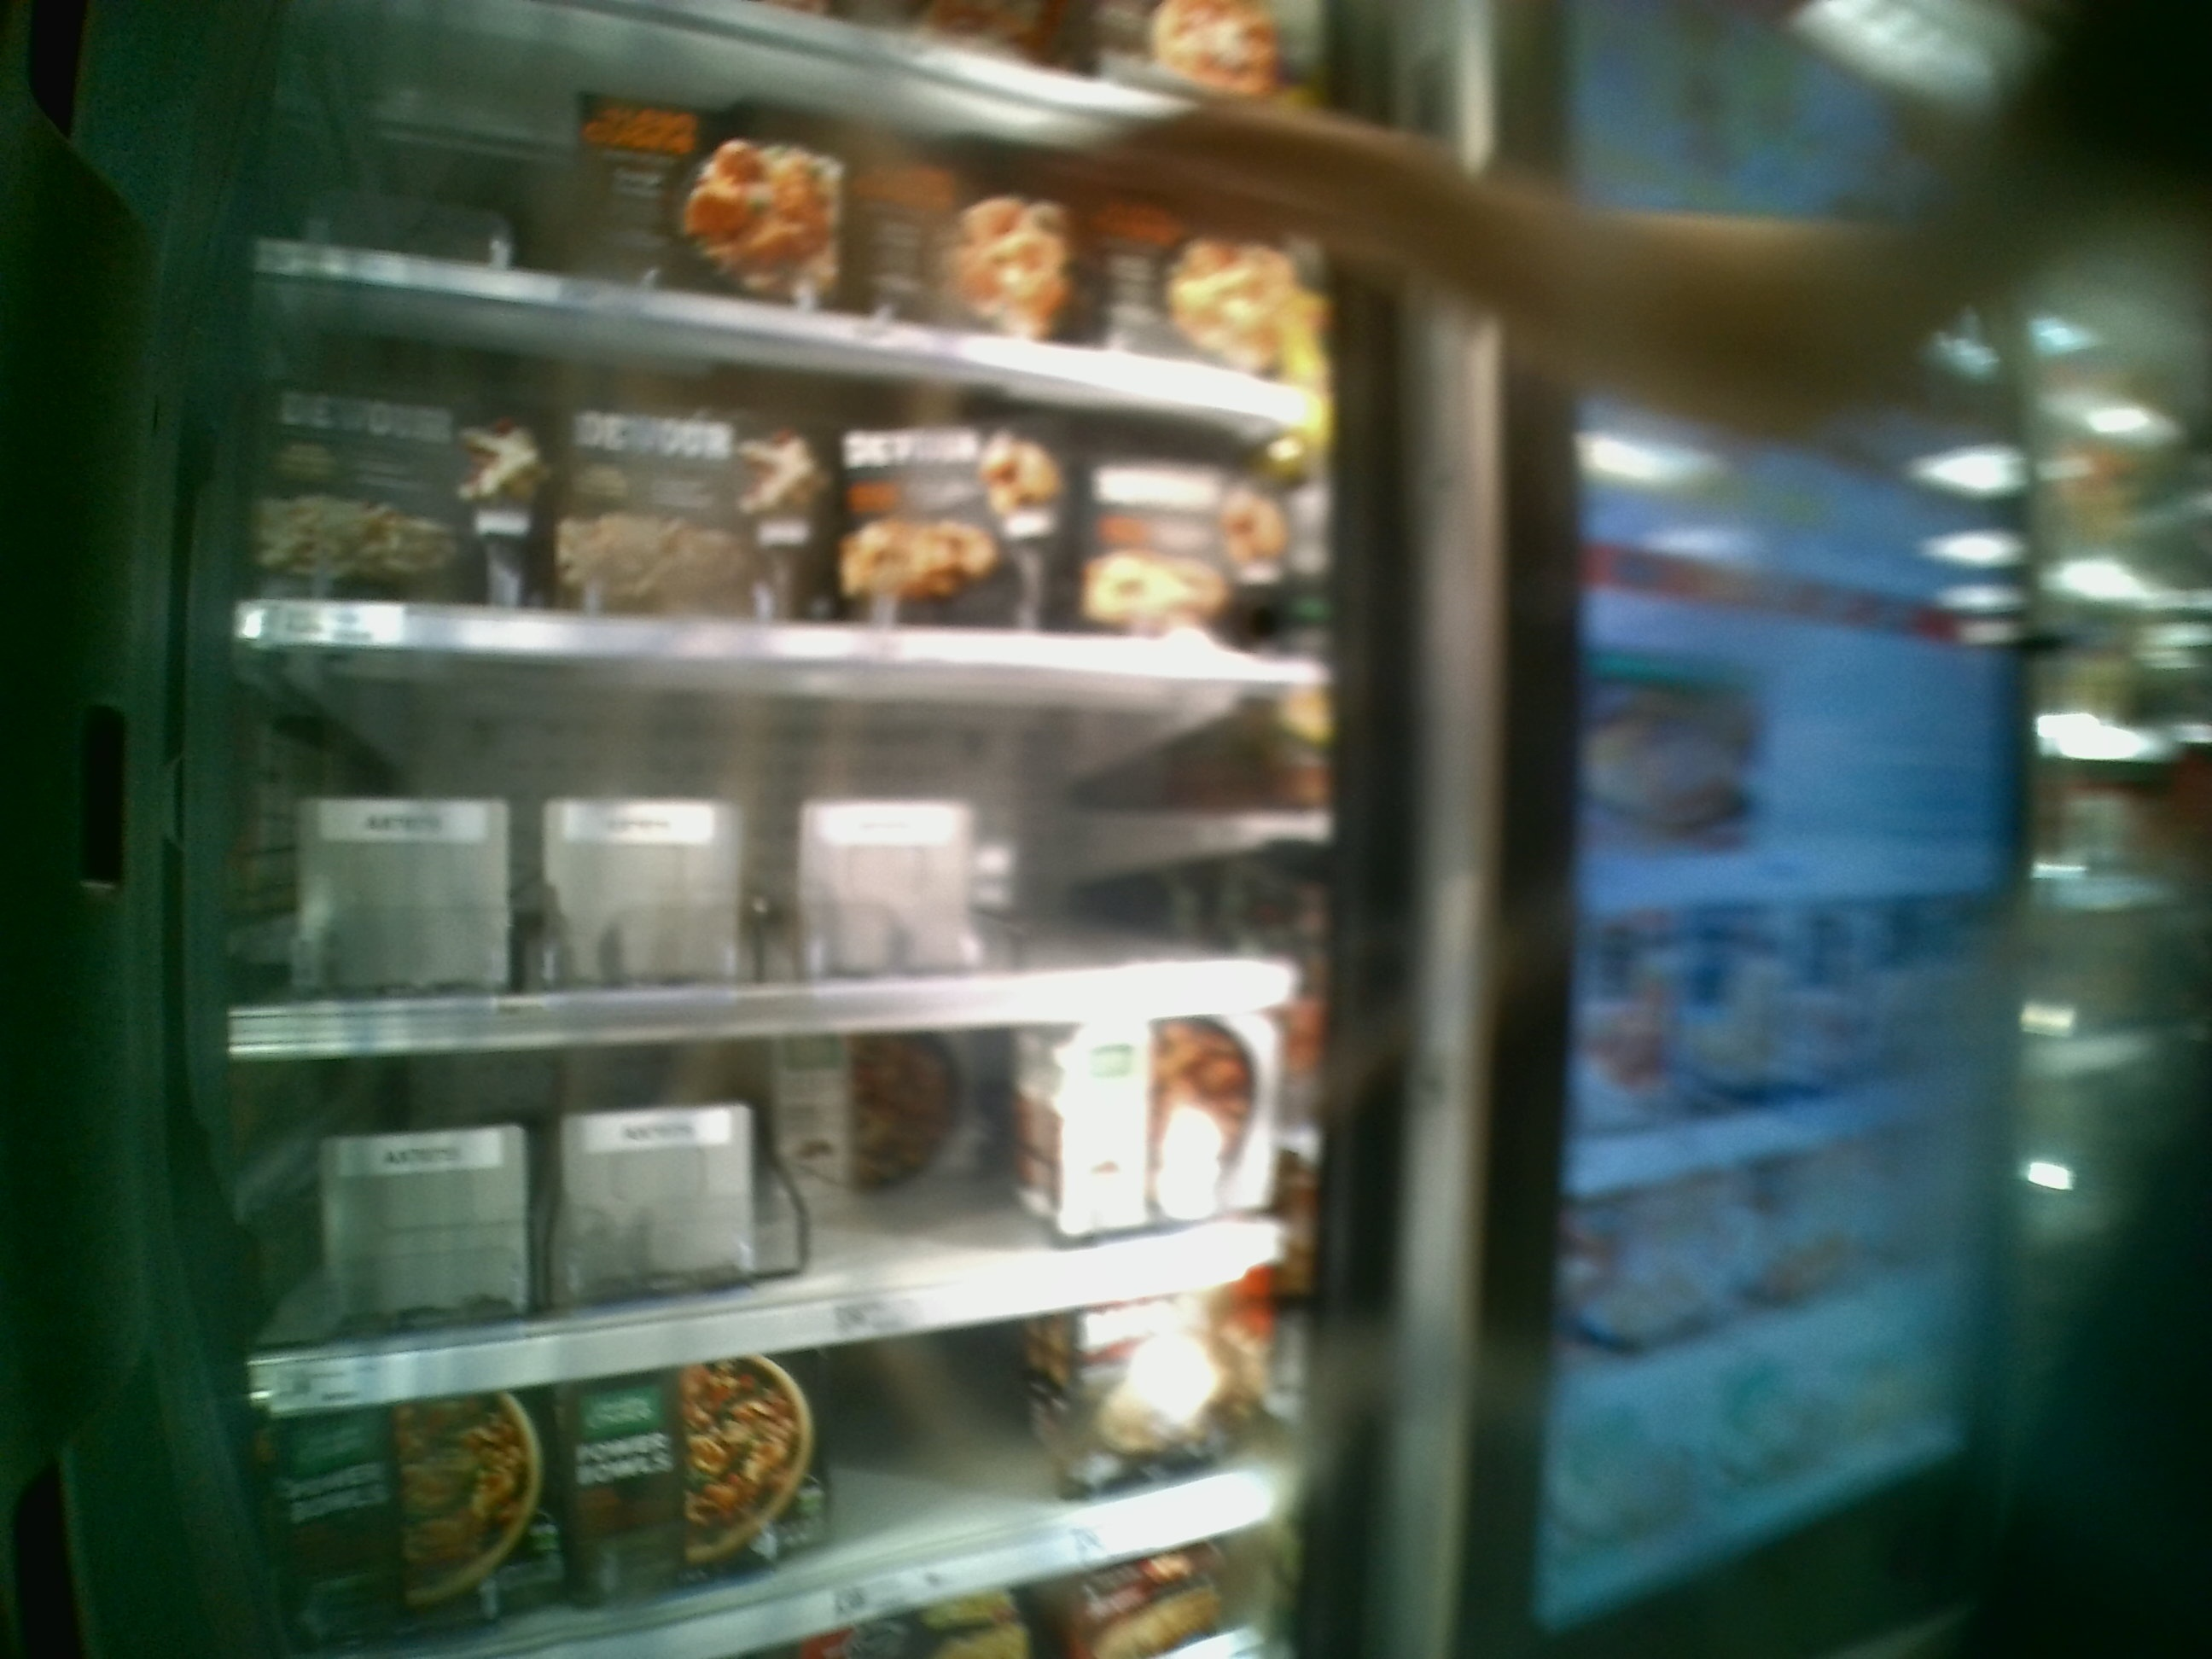shelf: (221, 636, 1332, 1053)
